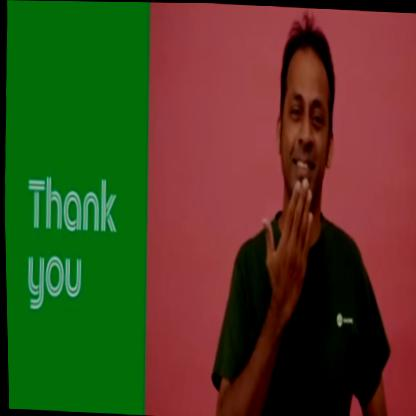ThankYou: (205, 4, 407, 416)
